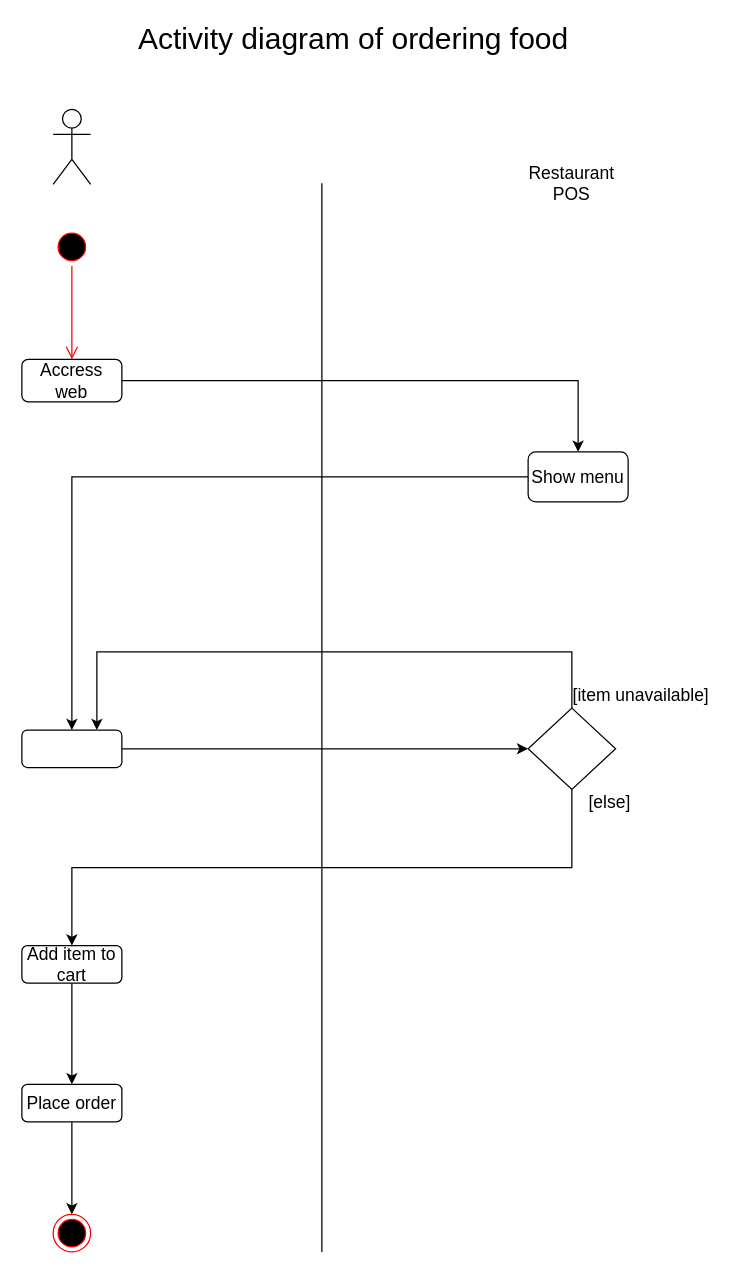
Image size: 738x1275. Some labels were removed from this diagram. Each missing label, with the box of its shape:
Customer: (52, 108, 91, 184)
Select Item: (21, 729, 122, 768)
